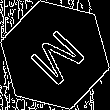M_SE: (21, 21, 89, 89)
